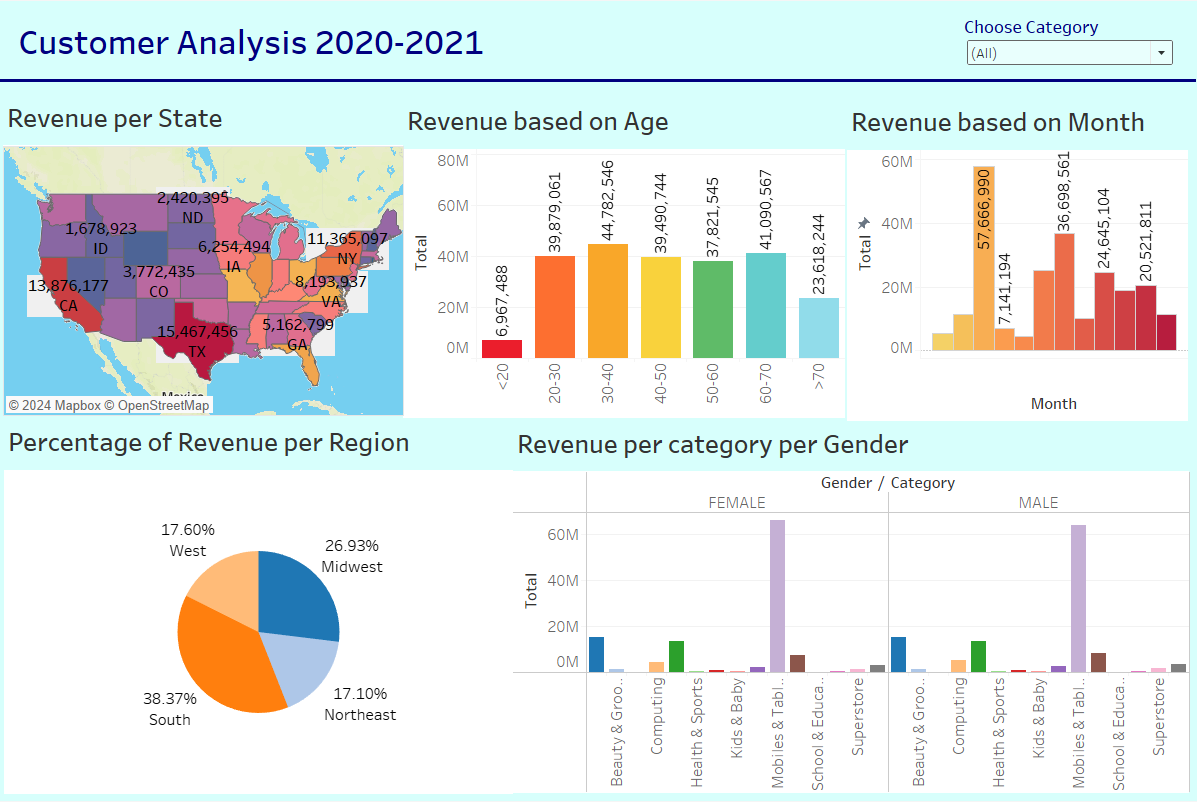

This screenshot's page, from the dashboard's own definition file:
{"tool":"tableau","page":{"name":"Customer Analysis","canvas":[1200,800],"ordinal":0},"visuals":[{"type":"filter","title":"Revenue per category per Gender","param":"[federated.0unpog81uwtcu316smo2l0dmsg45].[none:category:nk]","box":[965,13,212,53]},{"type":"text","box":[16,18,476,42]},{"type":"worksheet","title":"Revenue per State","mark":"Automatic","box":[4,95,401,320]},{"type":"worksheet","title":"Revenue based on Age","mark":"Automatic","rows":["total"],"cols":["Age (bin)"],"box":[404,98,442,319]},{"type":"worksheet","title":"Revenue based on Month","mark":"Bar","rows":["total"],"cols":["month"],"box":[848,99,341,321]},{"type":"worksheet","title":"Percentage of Revenue per Region","mark":"Pie","box":[5,419,509,374]},{"type":"worksheet","title":"Revenue per category per Gender","mark":"Automatic","rows":["total"],"cols":["Gender","category"],"box":[514,421,677,371]}]}

Visuals, with their boxes in screenshot pixels (x1, y1, x2, y2), scaled from the page's 1200x800 canvas onto the 1197x802 screenshot:
"Revenue per category per Gender" filter: bbox=(963, 13, 1174, 66)
text: bbox=(16, 18, 491, 60)
"Revenue per State" worksheet: bbox=(4, 95, 404, 416)
"Revenue based on Age" worksheet: bbox=(403, 98, 844, 418)
"Revenue based on Month" worksheet (Bar marks): bbox=(846, 99, 1186, 421)
"Percentage of Revenue per Region" worksheet (Pie marks): bbox=(5, 420, 513, 795)
"Revenue per category per Gender" worksheet: bbox=(513, 422, 1188, 794)
